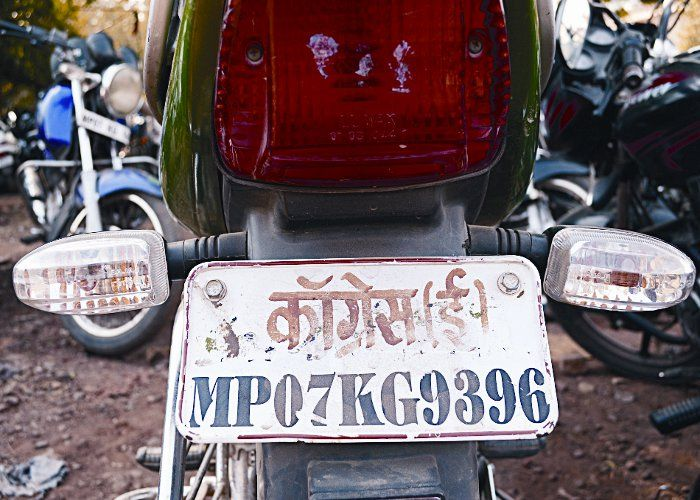number_plate: (178, 246, 556, 449)
